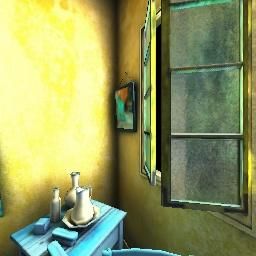table: (0, 181, 135, 256)
